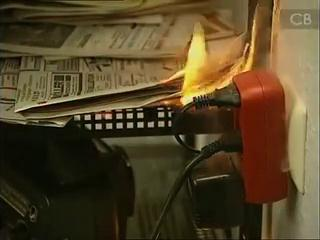Fire: (146, 1, 264, 119)
